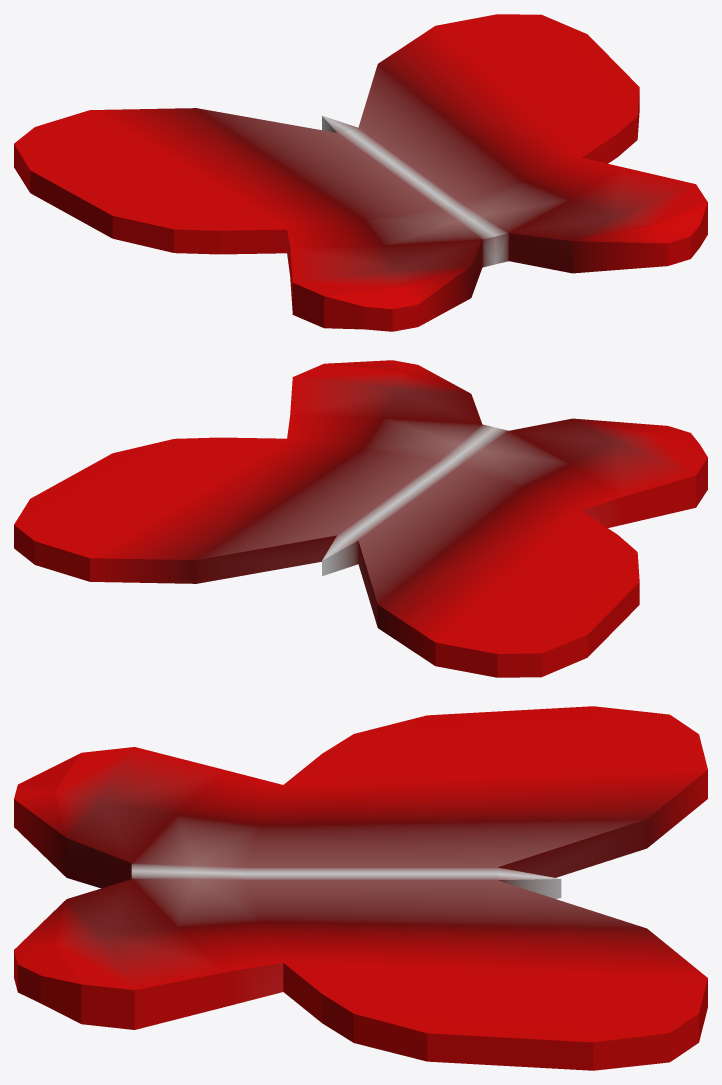
File: butterfly.fbx
The picture shows the model from 3 angles, top to bottom: view 1: azimuth 30°, elevation 25°; view 2: azimuth 150°, elevation 25°; view 3: azimuth 270°, elevation 25°; orthographic projection. The views are drawn at different scales.
Parts seen in each view (by area): view 1: Plane; view 2: Plane; view 3: Plane.
Part boxes in pixels (x1,y1,x2,y2): Plane: (14,14,707,331); Plane: (14,360,707,677); Plane: (14,706,707,1070).
Size of the model in its own units: 66.13 by 3.65 by 57.68.
